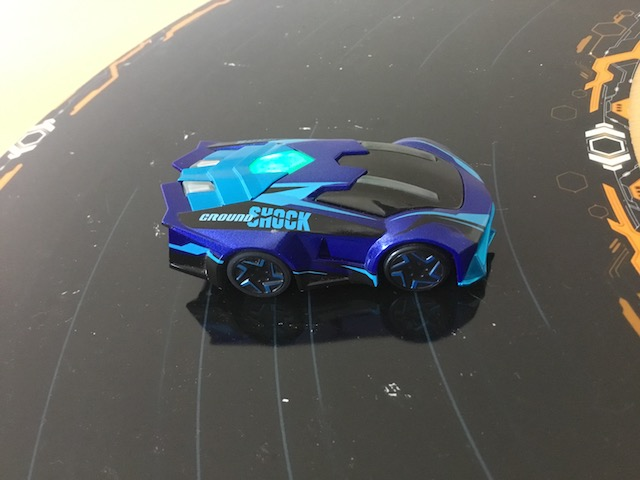car-blue: (151, 134, 503, 307)
